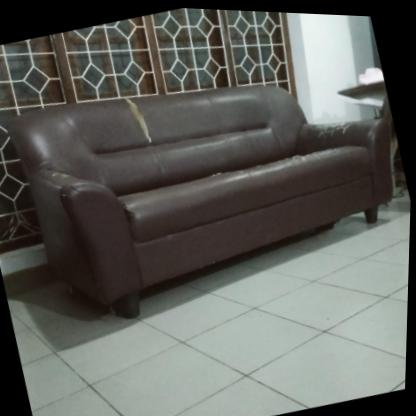Sofa: (0, 25, 415, 345)
